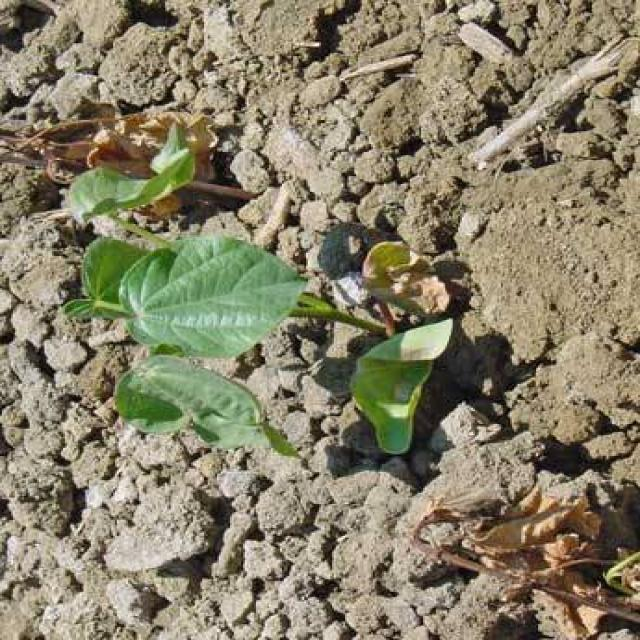Fusarium Wilt: (48, 57, 465, 492)
